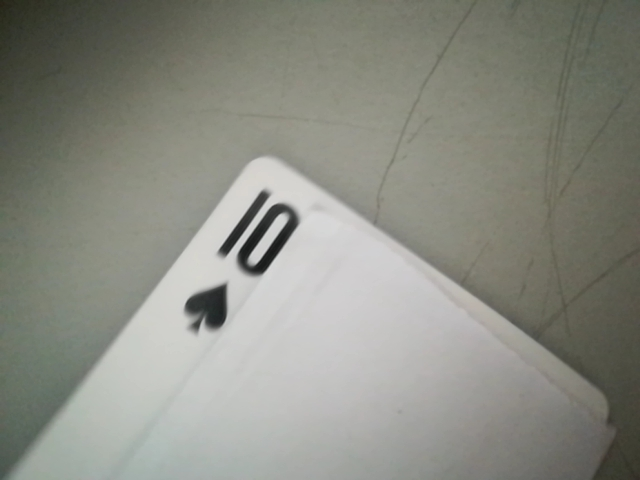ht 10: (171, 174, 313, 340)
